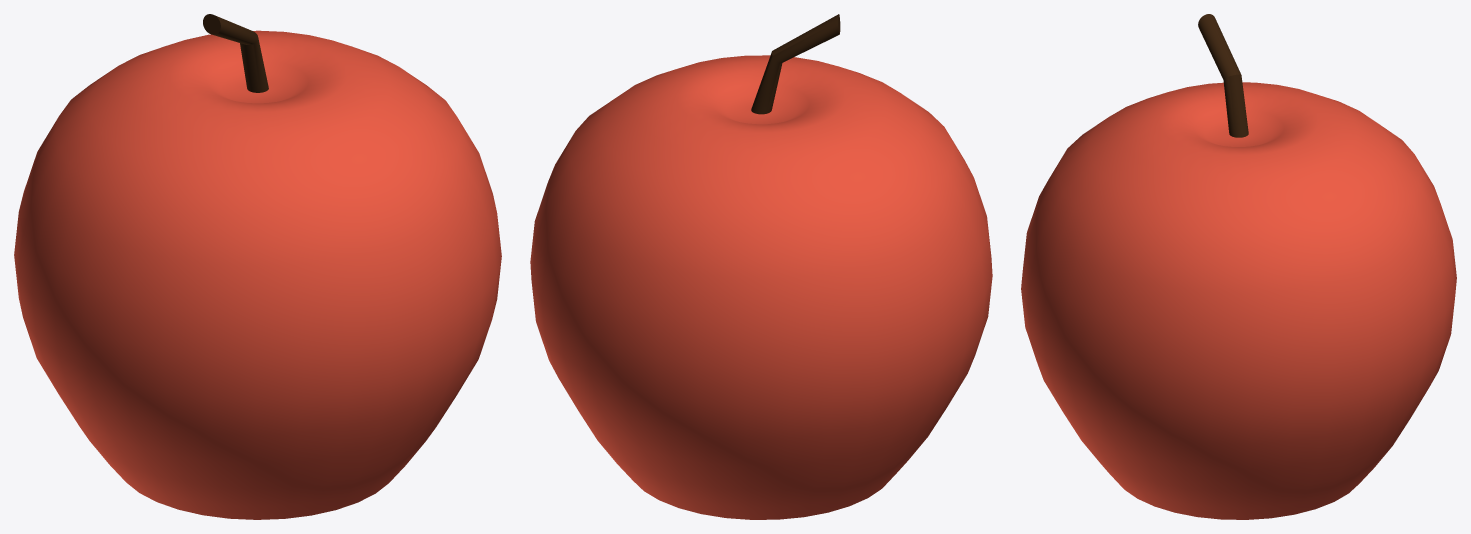
File: Manzanas.fbx
3 renders of one model, left to right at view 1: azimuth 30°, elevation 25°; view 2: azimuth 150°, elevation 25°; view 3: azimuth 270°, elevation 25°, orthographic. The views are drawn at different scales.
Visible parts, largest first — view 1: Sphere.001; view 2: Sphere.001; view 3: Sphere.001.
Boxes of the visible parts, box(x1,y1,x2,y2) form: Sphere.001: box(14, 14, 501, 519); Sphere.001: box(530, 14, 992, 519); Sphere.001: box(1021, 14, 1456, 519).
Size of the model in its own units: 89.26 by 99.29 by 89.26.
